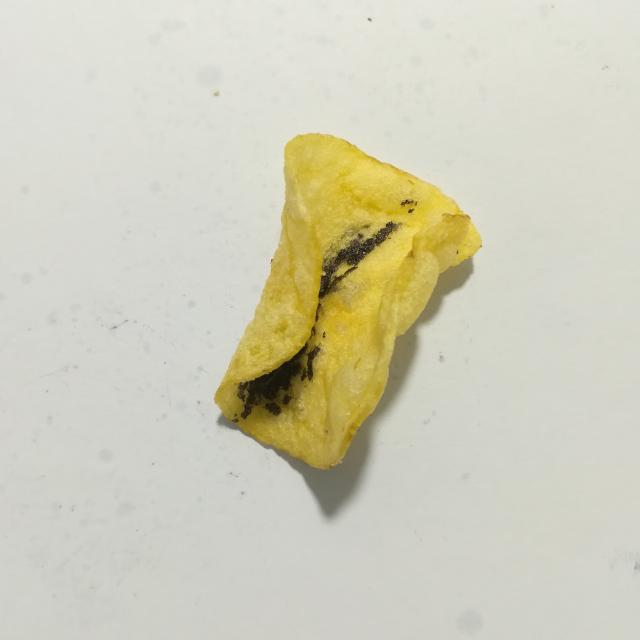chip: (214, 134, 481, 469)
damaged: (319, 222, 400, 299), (239, 343, 319, 419), (315, 301, 321, 322), (401, 199, 417, 206), (311, 326, 316, 336), (408, 208, 414, 213), (322, 332, 326, 338), (319, 296, 320, 301)
semi-damaged: (323, 210, 389, 264), (231, 418, 239, 423)
